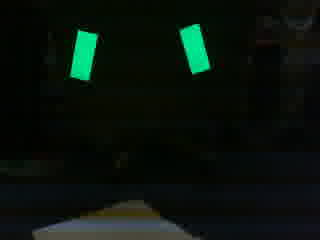target: (62, 22, 216, 83)
